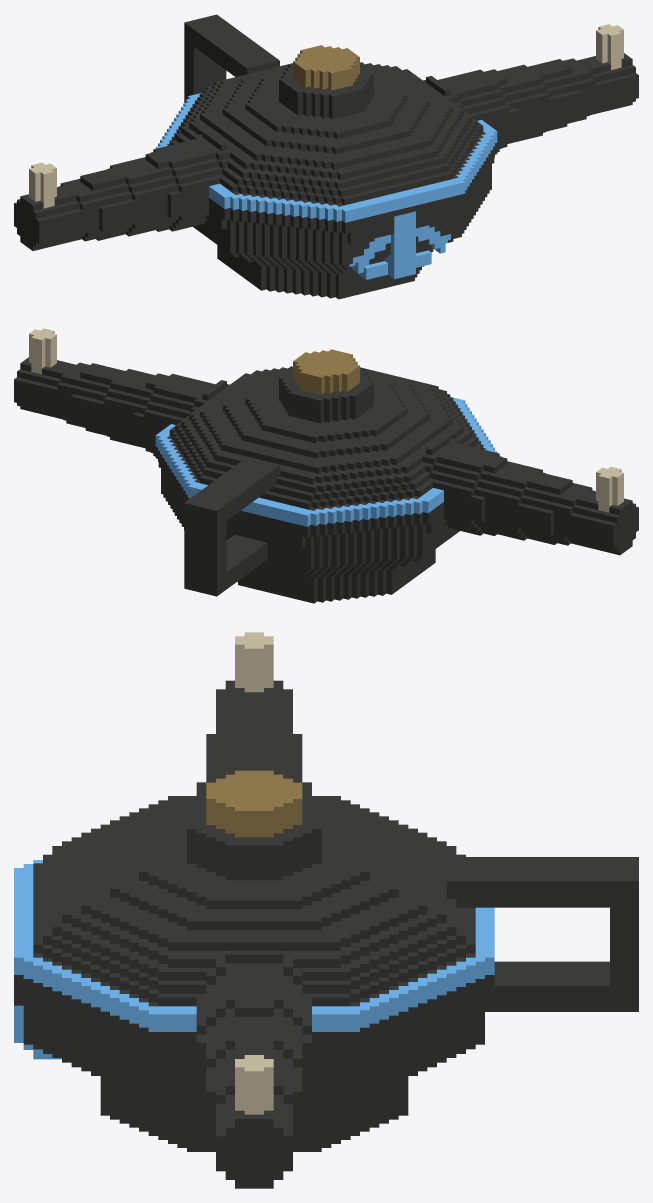
The model's file is twin_spout_rune_lamp.glb.
3 renders of one model, top to bottom at view 1: azimuth 30°, elevation 25°; view 2: azimuth 150°, elevation 25°; view 3: azimuth 270°, elevation 25°, orthographic. The views are drawn at different scales.
Visible parts, largest first — view 1: twin_spout_rune_lamp:compound; view 2: twin_spout_rune_lamp:compound; view 3: twin_spout_rune_lamp:compound.
Part boxes in pixels (x1,y1,x2,y2): twin_spout_rune_lamp:compound: [14, 14, 638, 299]; twin_spout_rune_lamp:compound: [14, 328, 638, 603]; twin_spout_rune_lamp:compound: [14, 632, 638, 1188].
Size of the model in its own units: 0.22 by 0.068 by 0.13.
